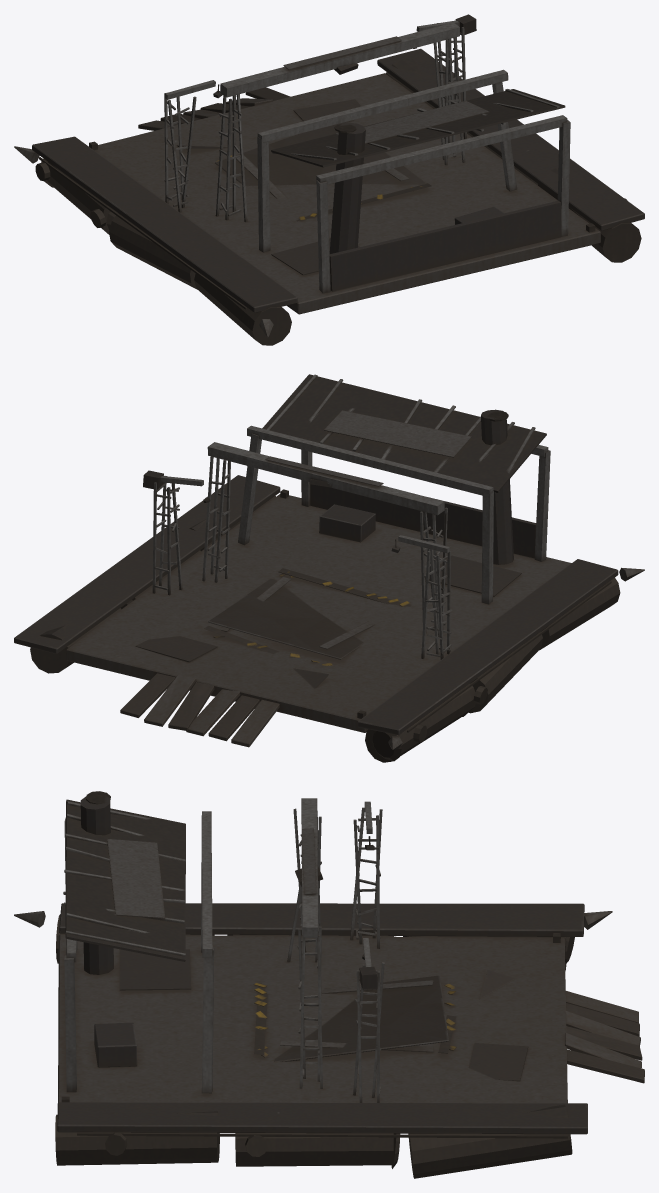
The model's file is chs_skimyard_wreck.fbx.
3 views of the same model, one above another, from view 1: azimuth 30°, elevation 25°; view 2: azimuth 150°, elevation 25°; view 3: azimuth 270°, elevation 25° (orthographic). The views are drawn at different scales.
Visible parts, largest first — view 1: base_bar; view 2: base_bar; view 3: base_bar.
Boxes of the visible parts, x1=… form: base_bar: x1=14, y1=14, x2=644, y2=345; base_bar: x1=14, y1=374, x2=644, y2=762; base_bar: x1=14, y1=791, x2=644, y2=1178.
Bounding box in the file's own units: 2853 × 1296 × 3243.
Materials: 2 (2 with a texture image).
